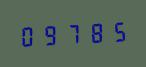eight: (84, 19, 105, 45)
five: (106, 18, 127, 44)
nine: (40, 21, 61, 47)
seven: (62, 20, 83, 46)
zero: (18, 22, 39, 48)
